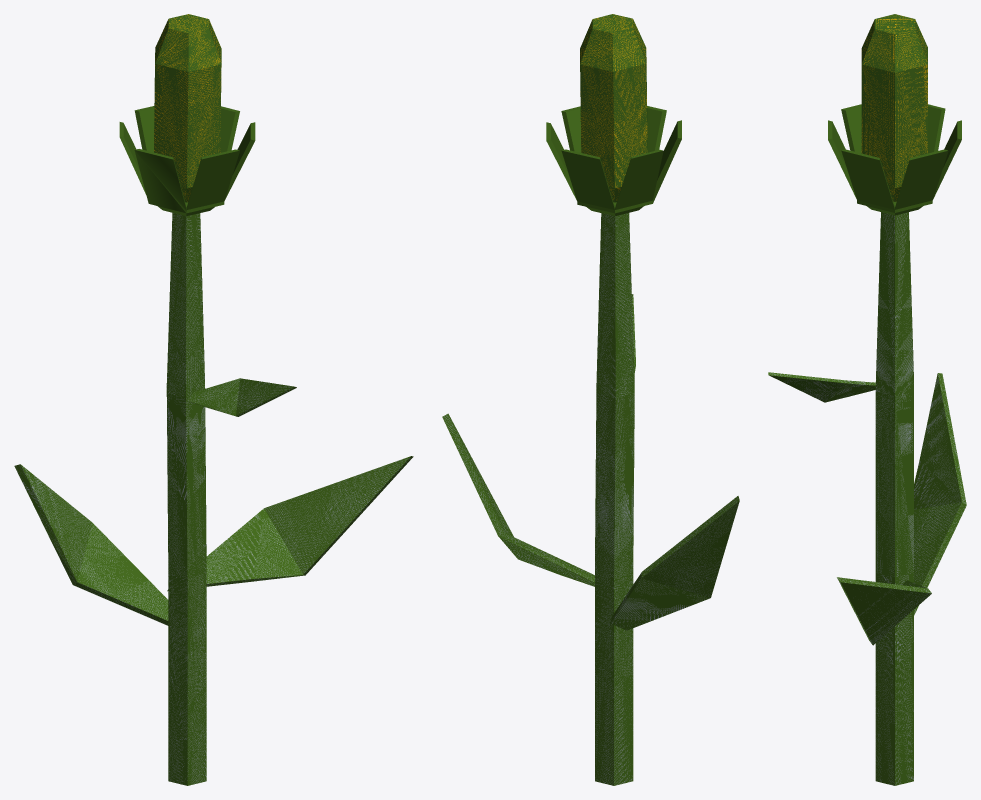
File: Corn_Plant_04.fbx
3 renders of one model, left to right at view 1: azimuth 30°, elevation 25°; view 2: azimuth 150°, elevation 25°; view 3: azimuth 270°, elevation 25°, orthographic.
Visible parts, largest first — view 1: Model; view 2: Model; view 3: Model.
Boxes of the visible parts, x1,y1,x2,y2 form: Model: (14, 14, 413, 785); Model: (442, 14, 739, 785); Model: (768, 14, 966, 785).
Size of the model in its own units: 133 by 275 by 65.65.
